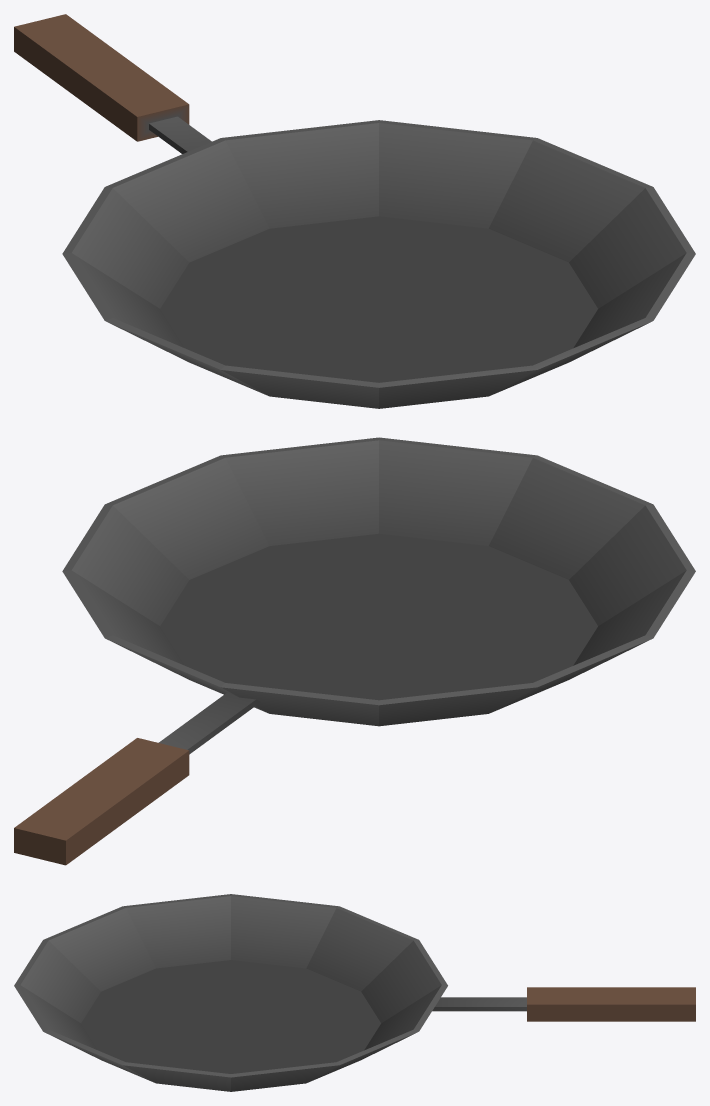
File: SM_Pan.fbx
The picture shows the model from 3 angles, top to bottom: view 1: azimuth 30°, elevation 25°; view 2: azimuth 150°, elevation 25°; view 3: azimuth 270°, elevation 25°; orthographic projection. The views are drawn at different scales.
Visible parts, largest first — view 1: Pan; view 2: Pan; view 3: Pan.
Boxes of the visible parts, box(x1,y1,x2,y2) form: Pan: box(14, 14, 695, 408); Pan: box(14, 437, 695, 865); Pan: box(14, 894, 695, 1091).
Bounding box in the file's own units: 289 × 31.95 × 454.
